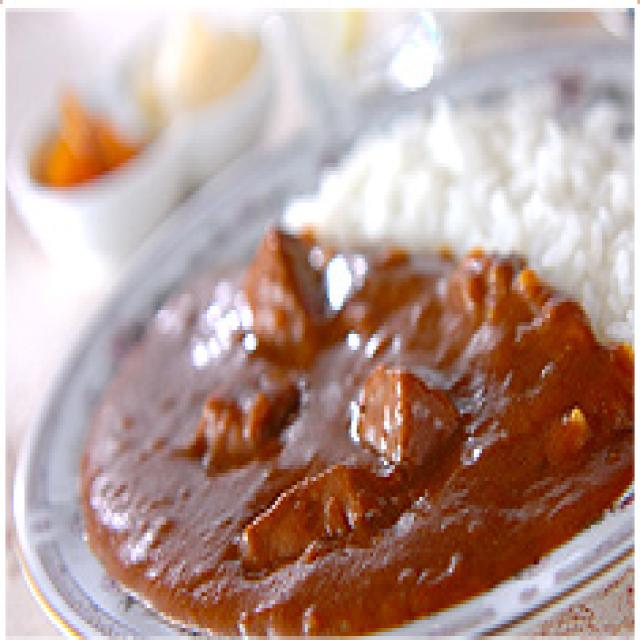牛肉菜式: (14, 44, 632, 624)
